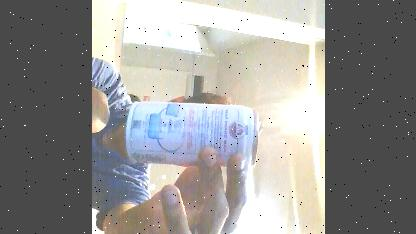Can: (122, 100, 264, 167)
